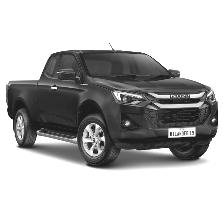NON-EV: (6, 44, 218, 168)
